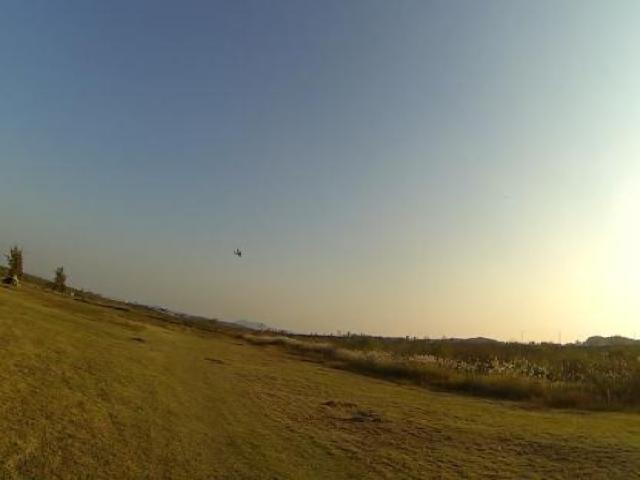uav: (228, 241, 248, 264)
